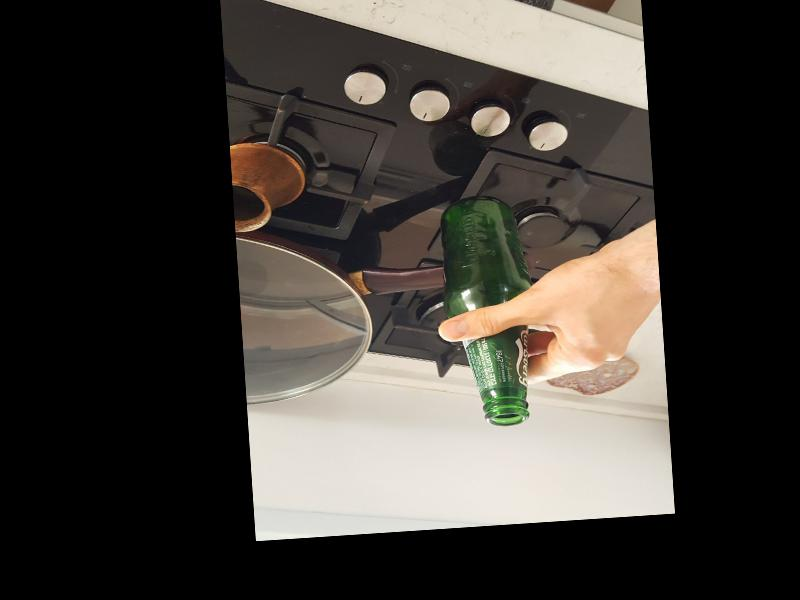Beer: (439, 194, 531, 427)
